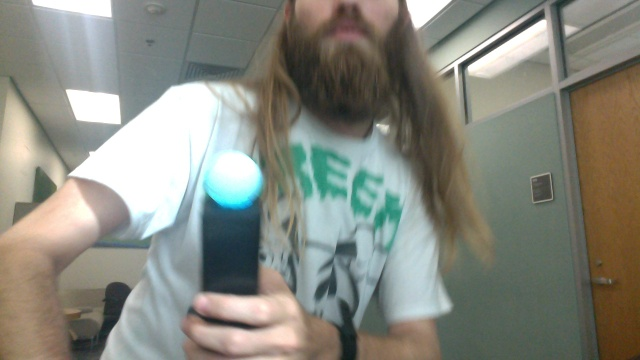wand: (204, 151, 262, 208)
